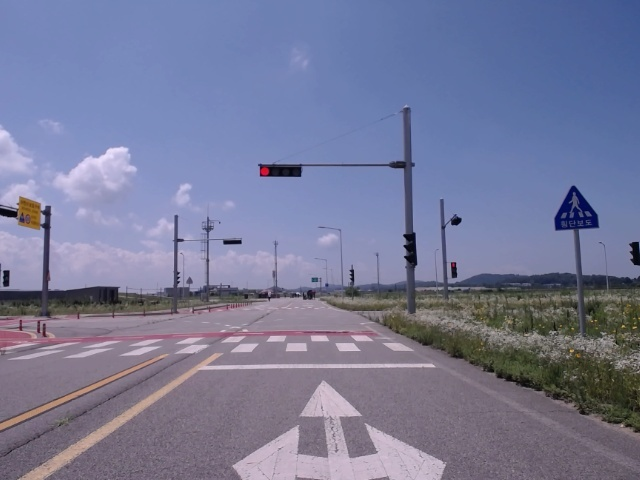red_4: (259, 166, 302, 177)
